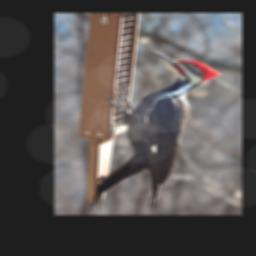Woodpecker: (88, 49, 223, 211)
